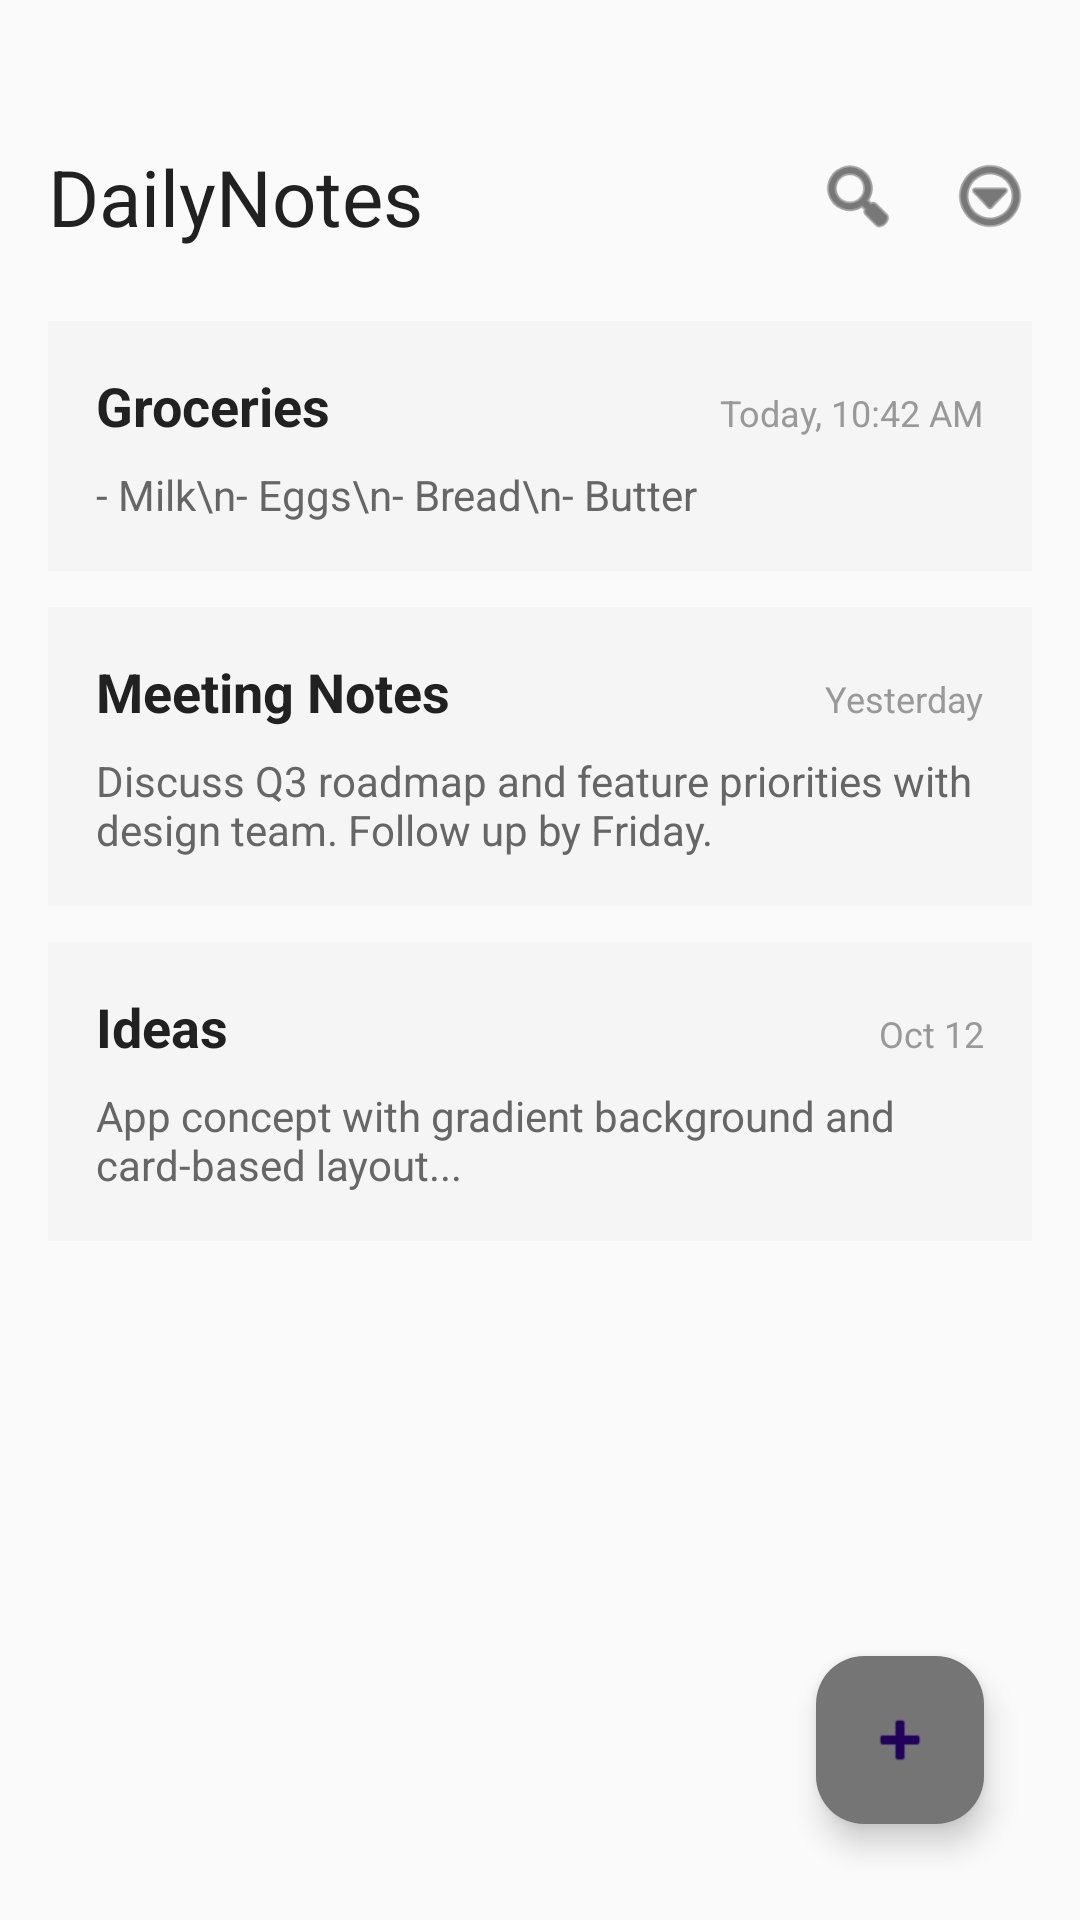

Point at icon controls on the screen. Image size 1080x1920, points as (x=x, y=y).
Add note: (x=900, y=1740)
More: (x=990, y=196)
Search: (x=858, y=196)
